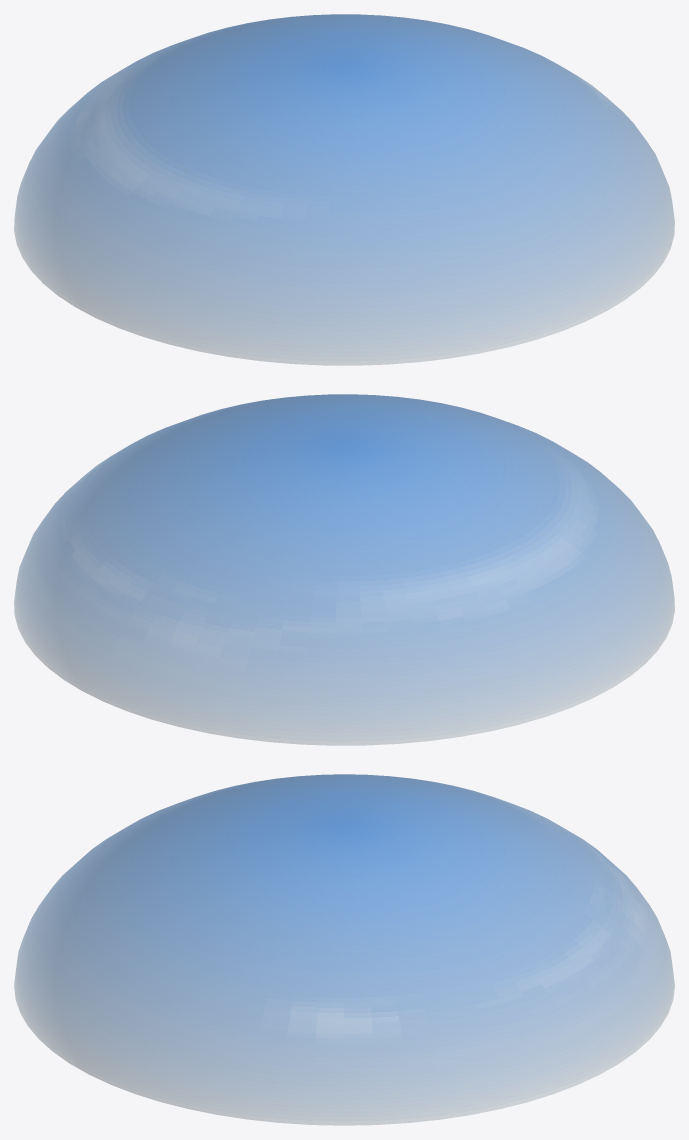
The model's file is env-sky-s17-curable-blockchain-dao.glb.
The picture shows the model from 3 angles, top to bottom: view 1: azimuth 30°, elevation 25°; view 2: azimuth 150°, elevation 25°; view 3: azimuth 270°, elevation 25°; orthographic projection.
Visible parts, largest first — view 1: Sky; view 2: Sky; view 3: Sky.
Boxes of the visible parts, x1,y1,x2,y2 form: Sky: (14, 14, 674, 365); Sky: (14, 394, 674, 745); Sky: (14, 774, 674, 1125).
Bounding box in the file's own units: 1200 × 320 × 1200.
2 materials, 1 textured.
